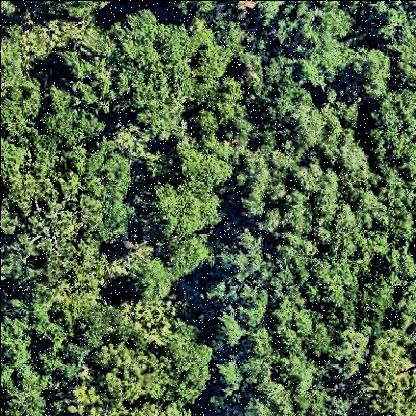tree-top: (113, 14, 234, 138), (83, 343, 173, 405), (296, 5, 356, 90), (359, 329, 416, 416), (139, 183, 229, 234), (164, 318, 213, 406), (1, 65, 45, 152), (45, 106, 105, 152), (1, 364, 54, 416), (235, 149, 271, 220), (350, 45, 392, 105), (357, 271, 398, 332), (162, 230, 210, 282), (219, 227, 261, 279), (173, 148, 229, 186), (291, 311, 331, 364), (129, 258, 175, 304), (228, 284, 273, 330), (333, 327, 371, 379), (337, 126, 365, 188), (1, 318, 34, 370), (209, 354, 247, 396), (211, 310, 242, 353), (257, 206, 287, 238)
